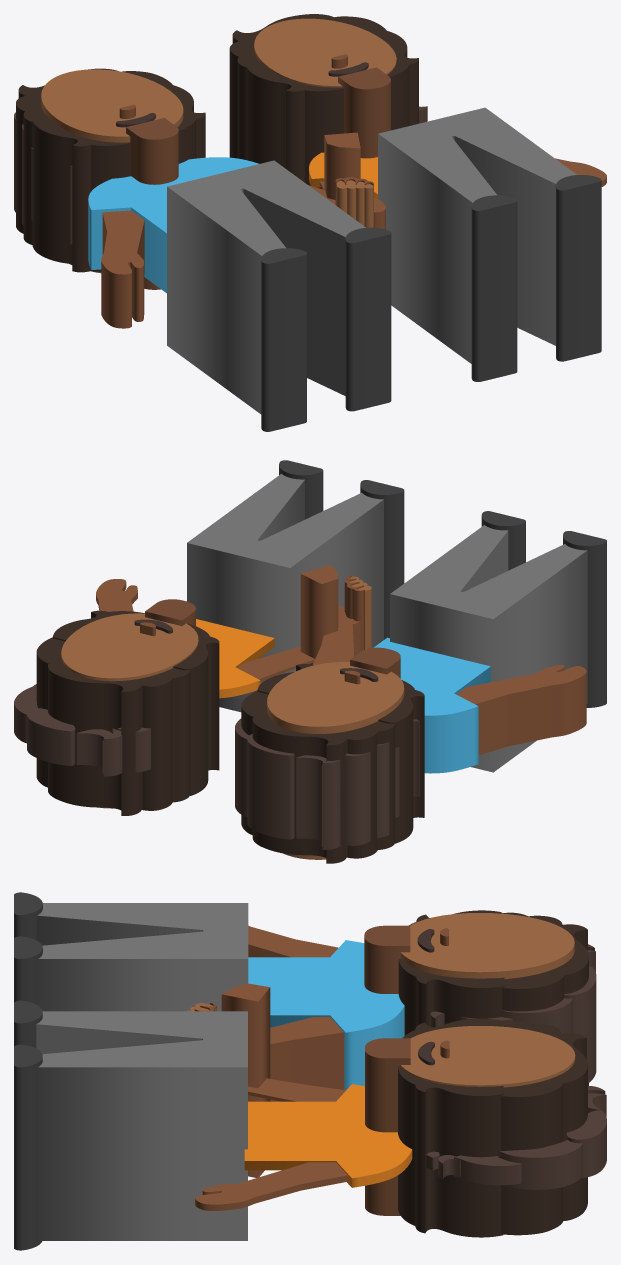
The model's file is emoji_u1f9d1_1f3fe_200d_1f91d_200d_1f9d1_1f3fe.glb.
3 views of the same model, one above another, from view 1: azimuth 30°, elevation 25°; view 2: azimuth 150°, elevation 25°; view 3: azimuth 270°, elevation 25° (orthographic). The views are drawn at different scales.
Visible parts, largest first — view 1: emoji_u1f9d1_1f3fe_200d_1f91d_200d_1f9d1_1f3fe; view 2: emoji_u1f9d1_1f3fe_200d_1f91d_200d_1f9d1_1f3fe; view 3: emoji_u1f9d1_1f3fe_200d_1f91d_200d_1f9d1_1f3fe.
Boxes of the visible parts, x1,y1,x2,y2 form: emoji_u1f9d1_1f3fe_200d_1f91d_200d_1f9d1_1f3fe: (14,14,606,431); emoji_u1f9d1_1f3fe_200d_1f91d_200d_1f9d1_1f3fe: (14,460,606,863); emoji_u1f9d1_1f3fe_200d_1f91d_200d_1f9d1_1f3fe: (14,892,606,1250).
Size of the model in its own units: 0.0346 by 0.0114 by 0.0335.
